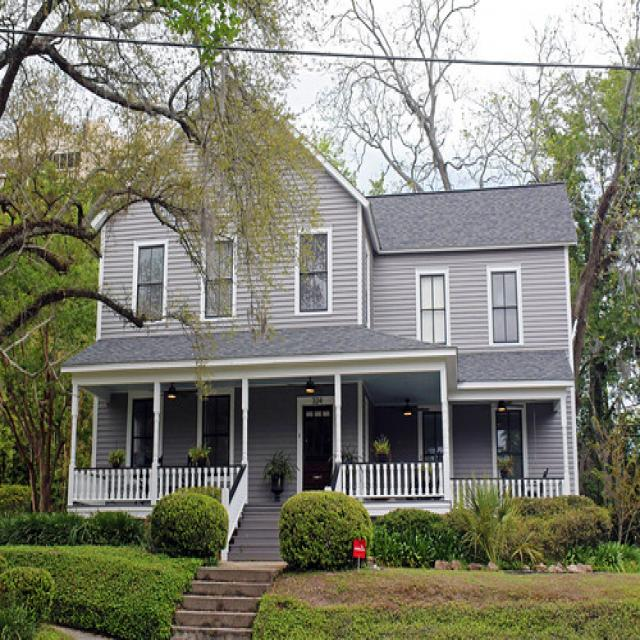Normal_building: (62, 65, 588, 563)
